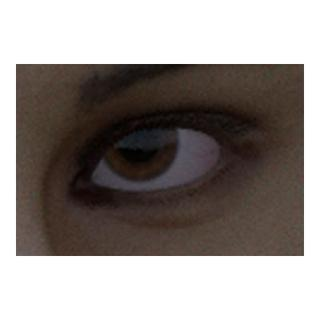pupil: (116, 120, 159, 163)
